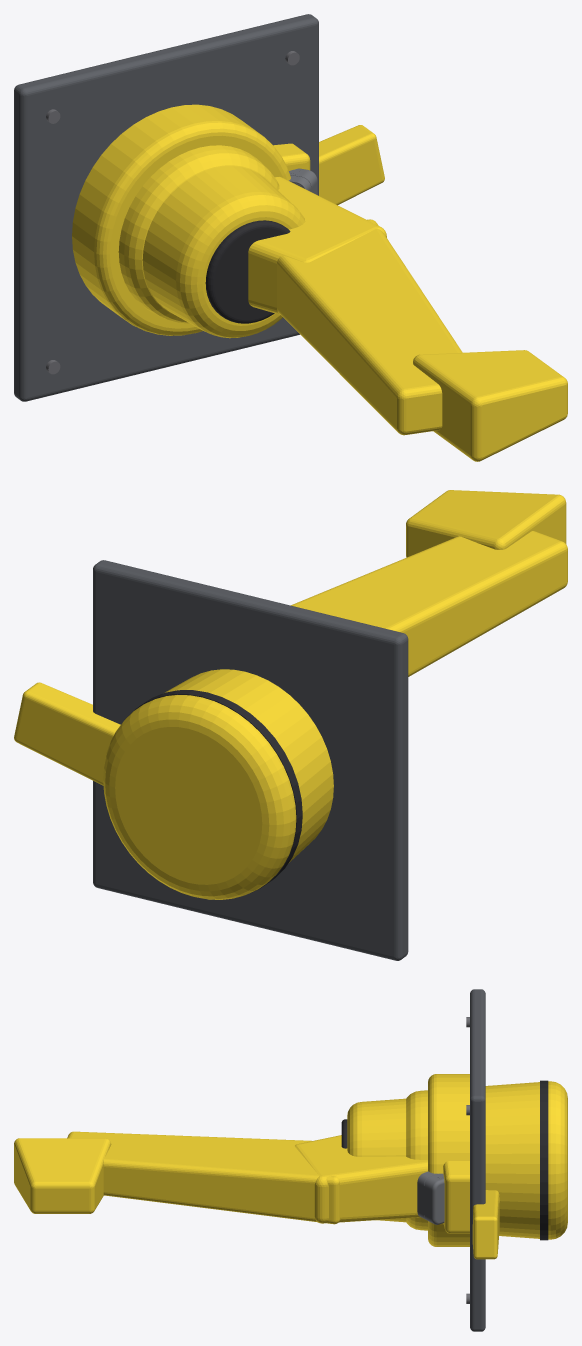
Rendered from arm.glb.
3 views of the same model, one above another, from view 1: azimuth 30°, elevation 25°; view 2: azimuth 150°, elevation 25°; view 3: azimuth 270°, elevation 25° (orthographic). The views are drawn at different scales.
Parts seen in each view (by area): view 1: b1, b3, b2, b5, b4; view 2: b3, b1, b5; view 3: b3, b1, b2, b4, b5, b10.
Part boxes in pixels (box(x1,y1,x2,y2)): b1: box(14, 14, 318, 401); b3: box(118, 145, 567, 461); b2: box(142, 166, 305, 338); b5: box(319, 125, 384, 205); b4: box(273, 143, 310, 170); b3: box(103, 490, 567, 899); b1: box(93, 560, 408, 960); b5: box(14, 682, 120, 785); b3: box(14, 1080, 567, 1240); b1: box(428, 989, 485, 1331); b2: box(341, 1098, 406, 1222); b4: box(443, 1161, 469, 1233); b5: box(472, 1190, 499, 1259); b10: box(417, 1171, 444, 1224).
Size of the model in its own units: 0.2772 by 0.2259 by 0.4811.
